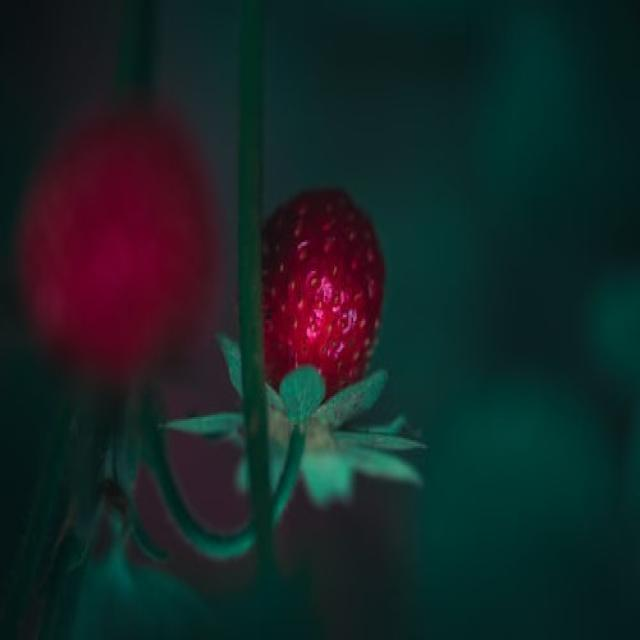mature: (261, 190, 384, 407)
